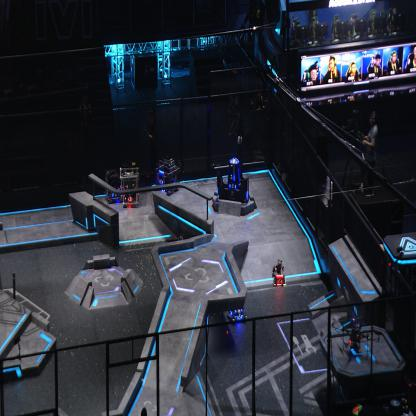car: (154, 156, 180, 194), (119, 165, 140, 206), (103, 168, 121, 205), (271, 258, 287, 287), (228, 299, 247, 323)
